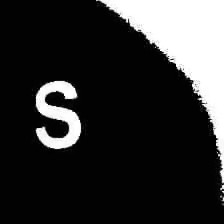LTR_S: (28, 73, 84, 151)
